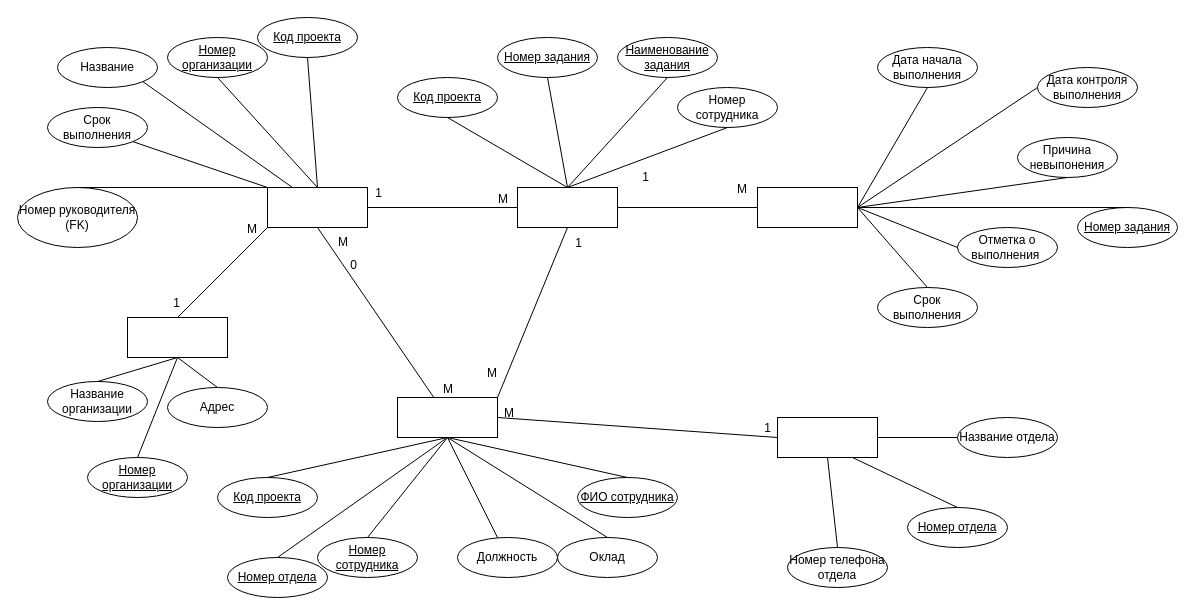
The diagram is 1195 pixels wide and 615 high, and some of its shapes have lost their labels. The shapes that lost their labels are listed below. From the top down, each one's centre as x and y in pixels, then its label:
the point at 317,207: Проект
the point at 567,207: Задание
the point at 807,207: Сведения о задании
the point at 177,337: Организация
the point at 447,417: Сотрудник
the point at 827,437: Отдел
